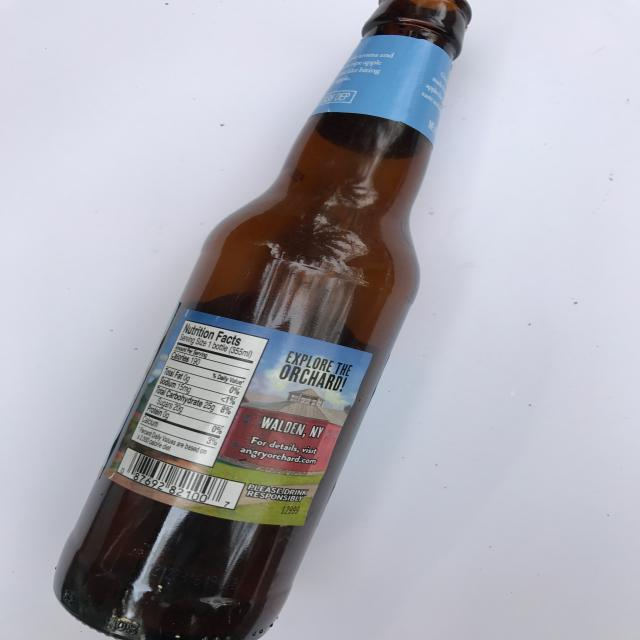glass: (50, 0, 472, 640)
